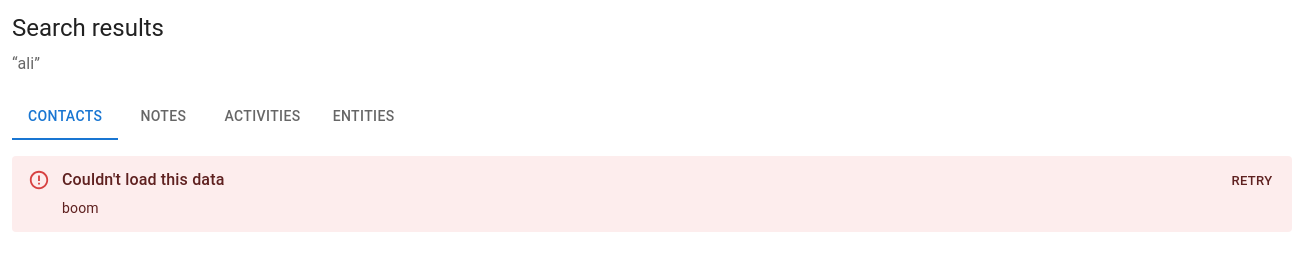
Scenario: a failed search shows a retryable error
The image size is (1292, 263).
Click the button "Retry" at (1252, 182), box left=1220, top=166, right=1284, bottom=197
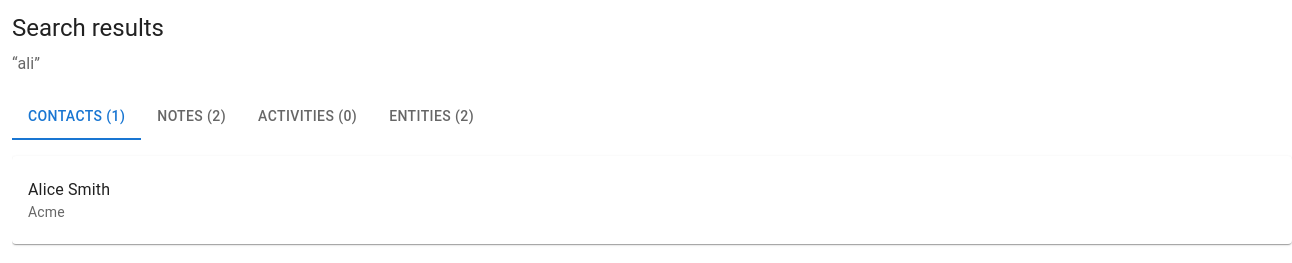
Expected: the tab "Contacts (1)" is shown, left=12, top=92, right=141, bottom=140
